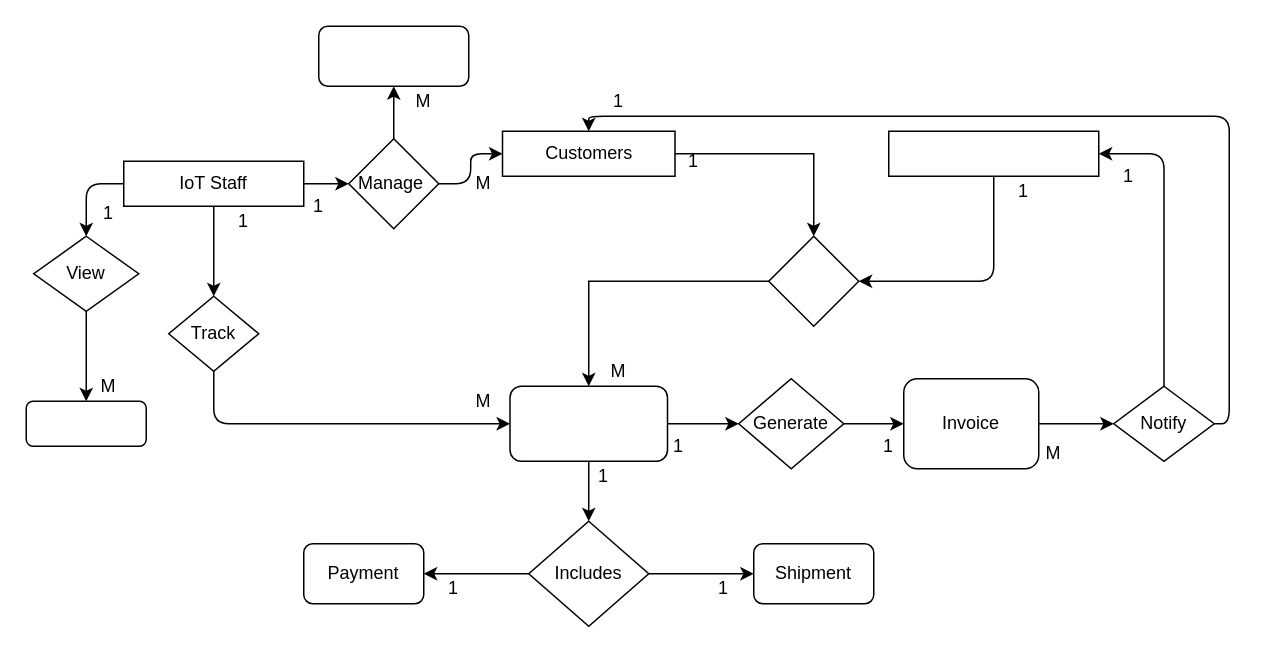
Image size: 1268x653. Some labels were removed from this diagram. The shapes that lost their labels are listed below. From the top down, each one's centre as x and y in pixels, then its label:
At point 393,55: "Devices".
At point 993,153: "NonRegCustomer".
At point 813,280: "Places".
At point 85,423: "Access Log".
At point 588,423: "Order".
